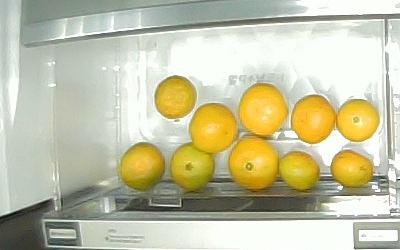tangerine: (229, 135, 279, 190), (240, 83, 290, 137), (190, 103, 238, 153), (170, 143, 216, 193), (119, 142, 166, 190), (291, 95, 336, 144), (337, 99, 381, 142), (154, 75, 197, 118), (331, 150, 374, 187), (280, 152, 320, 191)
